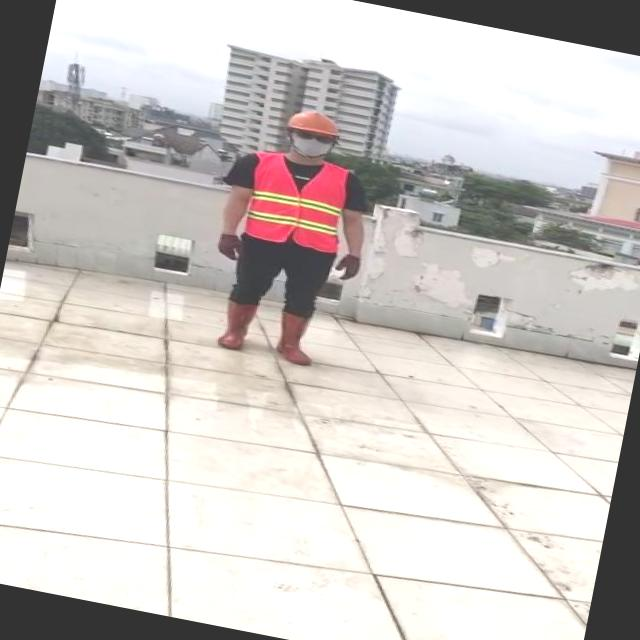boots: (274, 310, 321, 367), (215, 296, 260, 354)
helmet: (284, 104, 344, 137)
vest: (244, 152, 353, 255)
